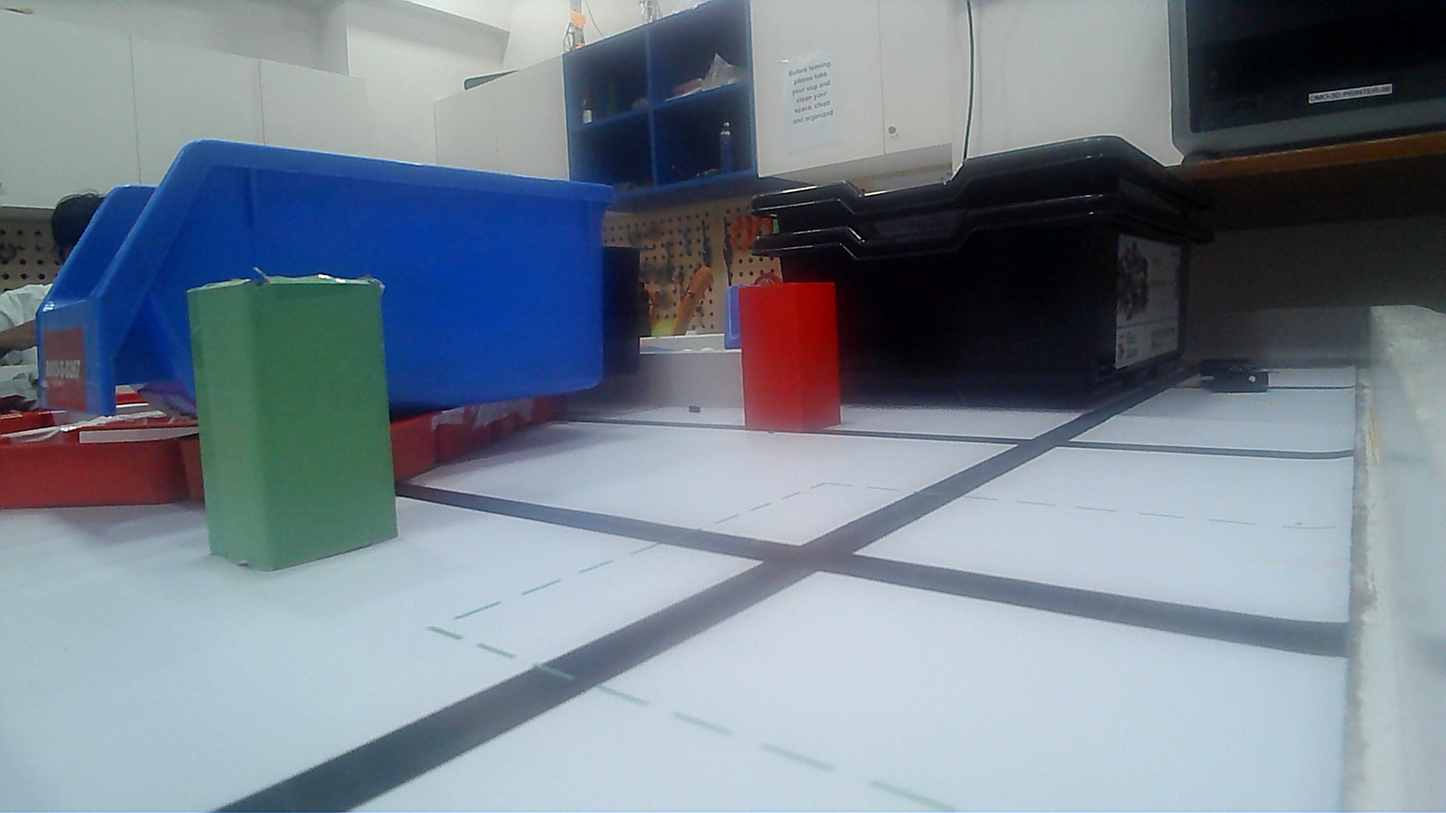red: (736, 283, 845, 431)
